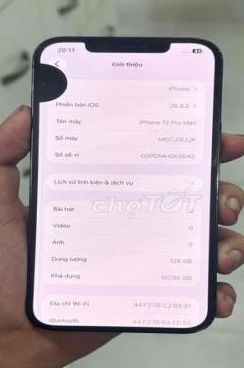screen_defect: (30, 47, 79, 120)
